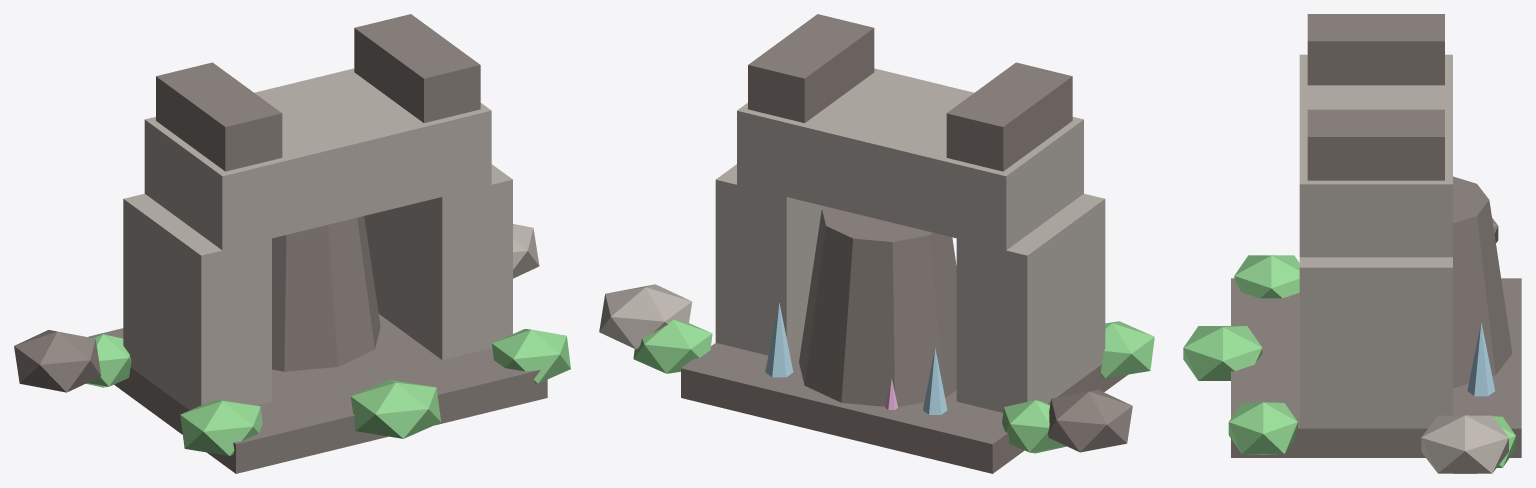
Rendered from cave_entrance.glb.
The picture shows the model from 3 angles, left to right: view 1: azimuth 30°, elevation 25°; view 2: azimuth 150°, elevation 25°; view 3: azimuth 270°, elevation 25°; orthographic projection.
Parts seen in each view (by area): view 1: arch_top, arch_l, arch_r, base, opening, arch_top_l, arch_top_r, stone1, moss.004, moss.002, moss.003, moss (+1 smaller); view 2: arch_top, opening, arch_l, base, arch_r, arch_top_l, arch_top_r, stone1, stone2, moss.001, moss.002, moss (+2 smaller); view 3: arch_r, arch_top, base, arch_top_l, arch_top_r, opening, stone2, moss.004, moss.003, moss.002, crystal_r, moss.001.
Part boxes in pixels (left/top/right/bottom): arch_top: left=144, top=68, right=491, bottom=250; arch_l: left=123, top=193, right=271, bottom=410; arch_r: left=364, top=164, right=512, bottom=359; base: left=88, top=314, right=547, bottom=473; opening: left=272, top=216, right=380, bottom=371; arch_top_l: left=156, top=62, right=282, bottom=171; arch_top_r: left=354, top=14, right=480, bottom=122; stone1: left=14, top=330, right=101, bottom=392; moss.004: left=351, top=379, right=440, bottom=438; moss.002: left=180, top=399, right=262, bottom=455; moss.003: left=492, top=329, right=570, bottom=383; moss: left=86, top=334, right=131, bottom=387; arch_top: left=737, top=68, right=1083, bottom=250; opening: left=799, top=206, right=956, bottom=406; arch_l: left=956, top=193, right=1105, bottom=412; base: left=681, top=343, right=1127, bottom=473; arch_r: left=715, top=164, right=824, bottom=356; arch_top_l: left=946, top=62, right=1072, bottom=171; arch_top_r: left=748, top=14, right=874, bottom=123; stone1: left=1048, top=389, right=1132, bottom=452; stone2: left=599, top=284, right=692, bottom=349; moss.001: left=633, top=319, right=712, bottom=373; moss.002: left=1100, top=321, right=1154, bottom=378; moss: left=1002, top=400, right=1066, bottom=453; arch_r: left=1299, top=257, right=1452, bottom=428; arch_top: left=1299, top=54, right=1452, bottom=257; base: left=1231, top=278, right=1521, bottom=457; arch_top_l: left=1307, top=14, right=1444, bottom=85; arch_top_r: left=1307, top=109, right=1444, bottom=180; opening: left=1453, top=176, right=1512, bottom=388; stone2: left=1421, top=415, right=1508, bottom=473; moss.004: left=1183, top=326, right=1262, bottom=380; moss.003: left=1228, top=402, right=1297, bottom=454; moss.002: left=1234, top=255, right=1299, bottom=298; crystal_r: left=1467, top=322, right=1494, bottom=396; moss.001: left=1493, top=416, right=1515, bottom=467.
Bounding box in the file's own units: 3.65 × 2.1 × 2.09.
